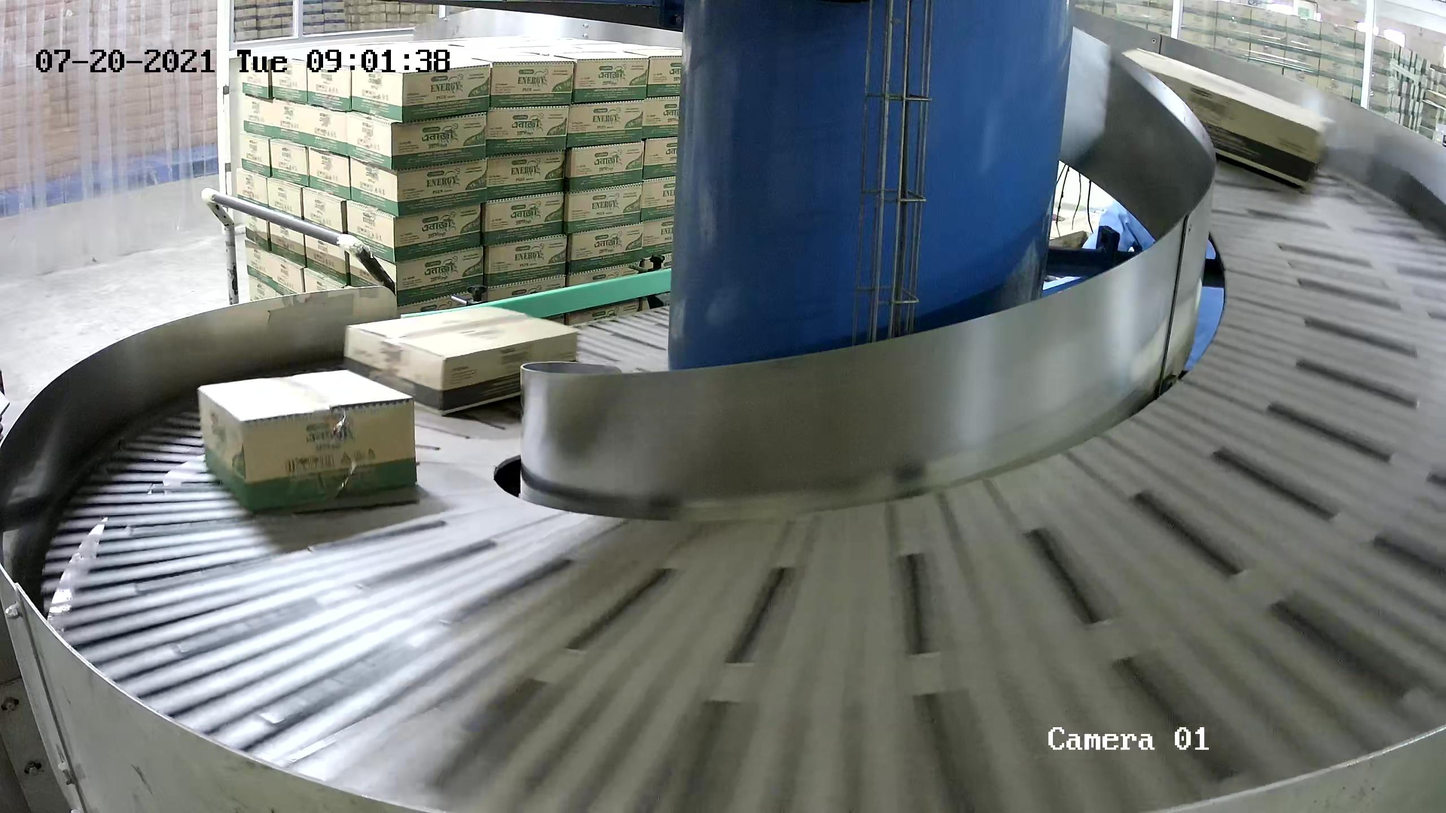Box: (196, 367, 423, 512), (1116, 45, 1336, 192), (342, 304, 580, 418)
